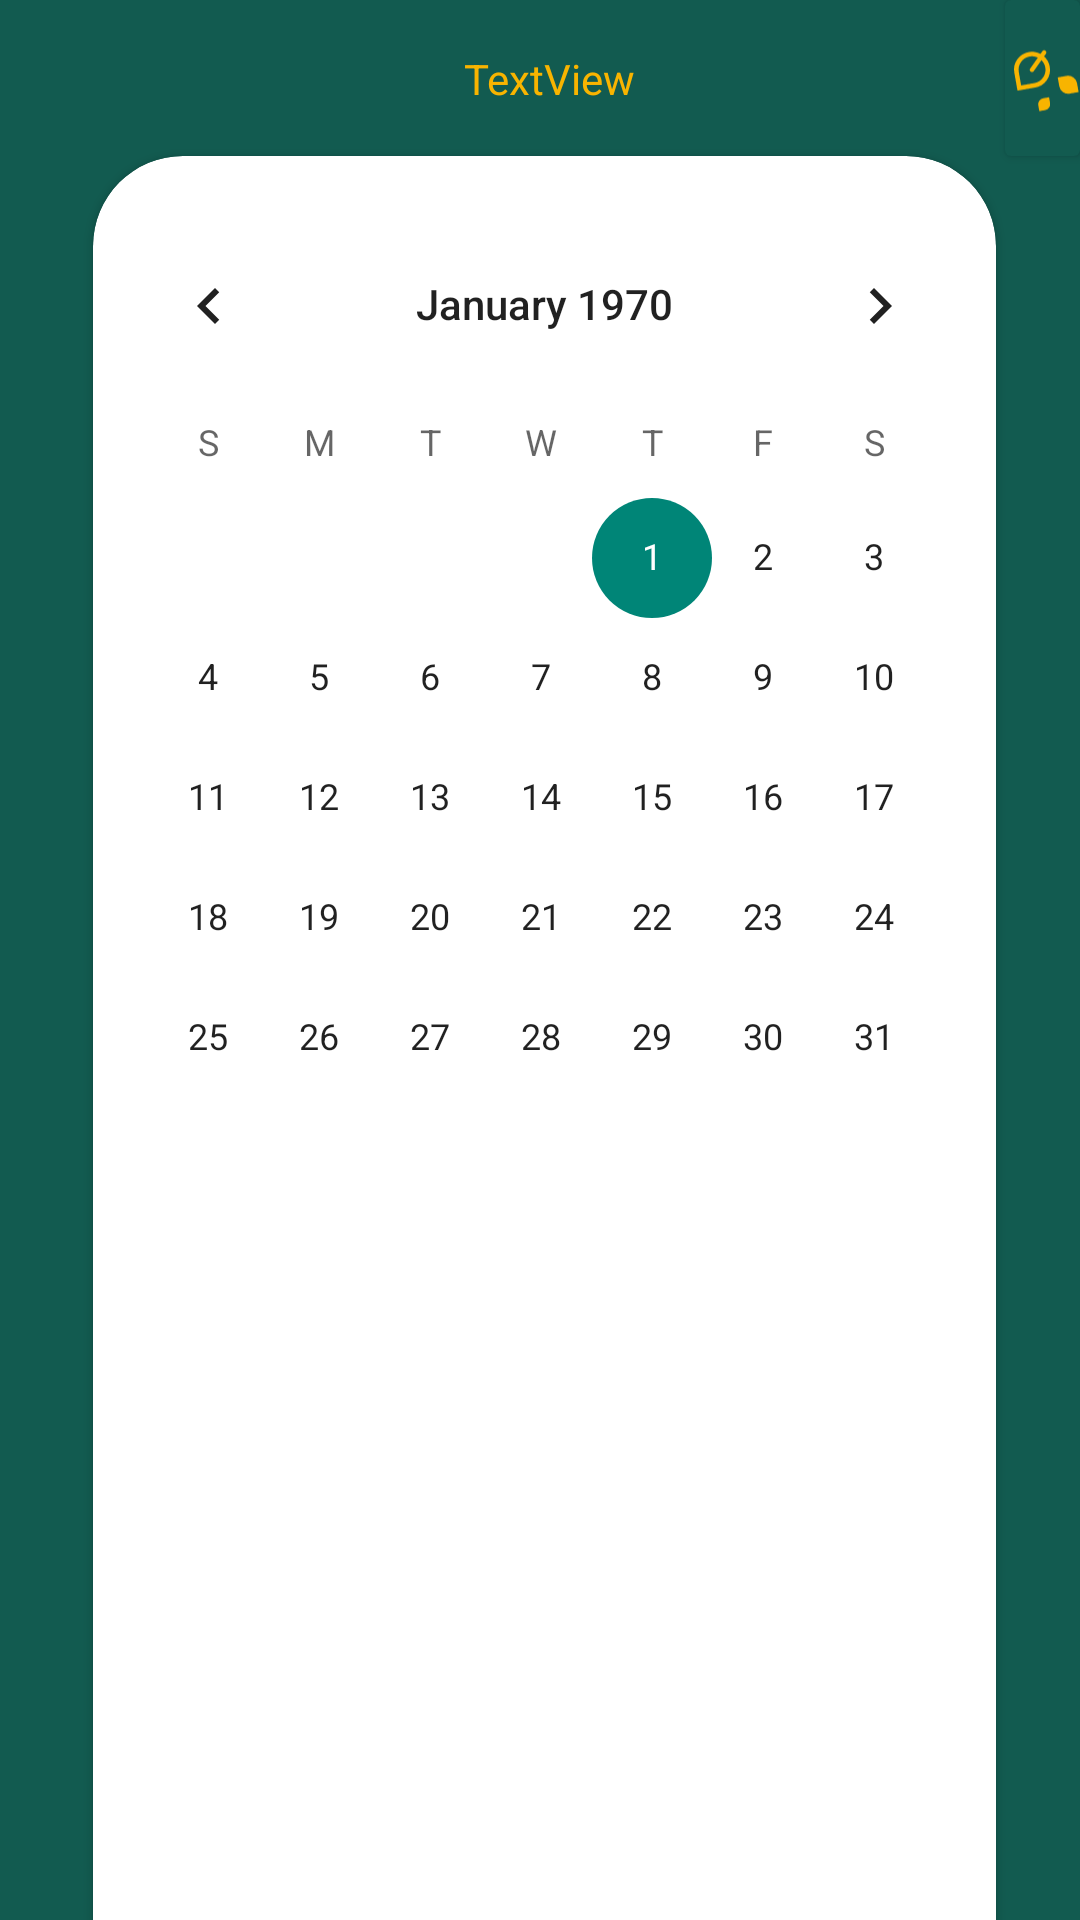

Locate icon controls on the screen. Image size 1080 × 1920, boxes as (x1, y1, x2, y2).
energy savings leaf: (1014, 50, 1079, 112)
